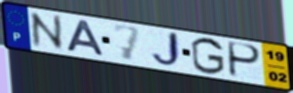7: (112, 23, 143, 64)
A: (64, 19, 108, 58)
G: (189, 36, 226, 76)
J: (149, 30, 184, 70)
N: (27, 10, 67, 51)
P: (228, 40, 264, 80)
